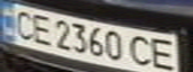0: (103, 28, 127, 63)
2: (48, 17, 72, 52)
3: (66, 21, 90, 55)
6: (84, 25, 106, 58)
C: (127, 33, 160, 69), (6, 7, 39, 40)
E: (145, 35, 184, 72), (27, 11, 57, 46)
